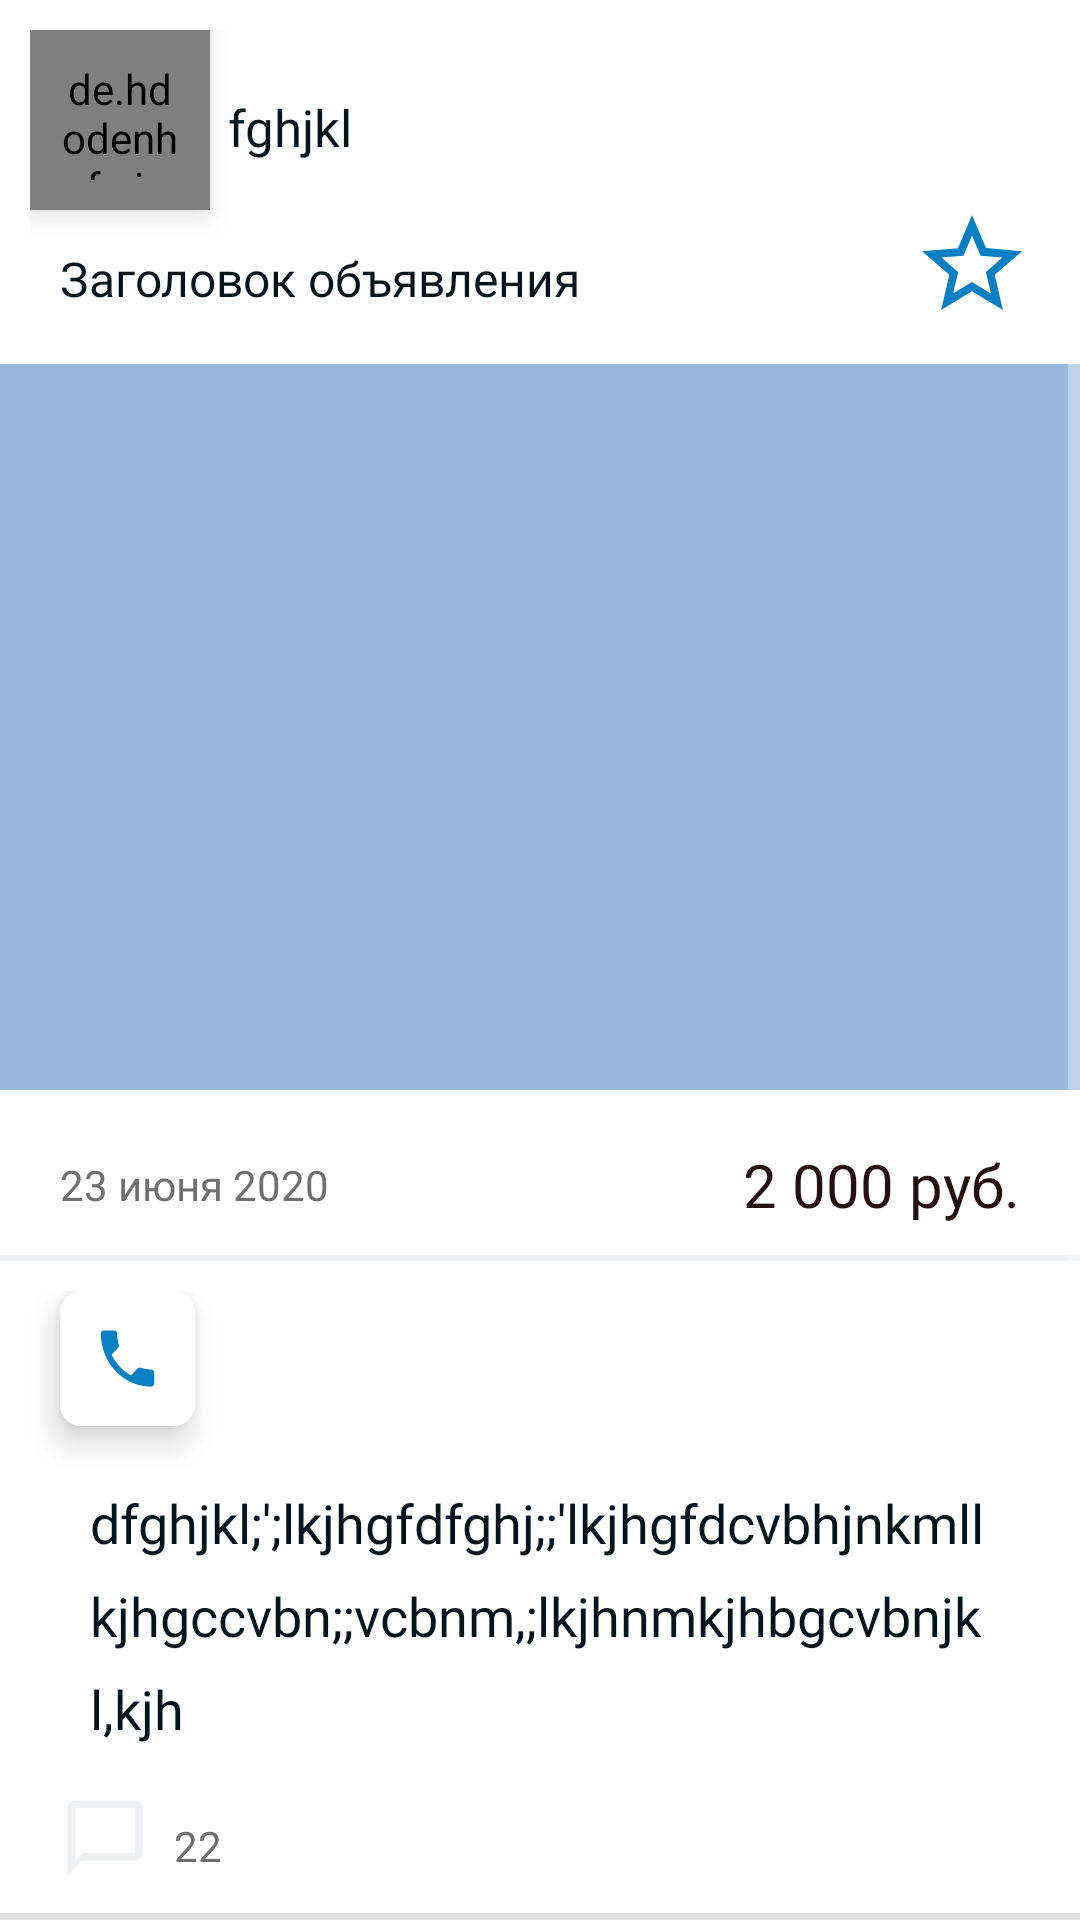

Screen size 1080*1920. Icon name, then its box in pixels as (x1, y1, x2, y2):
phone: (101, 1330, 155, 1387)
